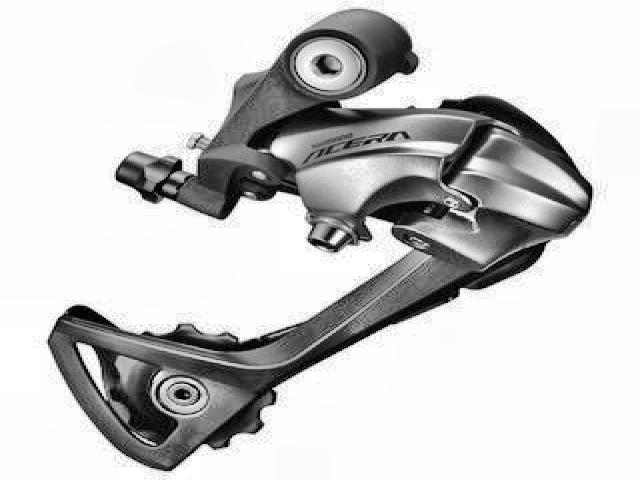rear_derailleur: (41, 7, 597, 475)
